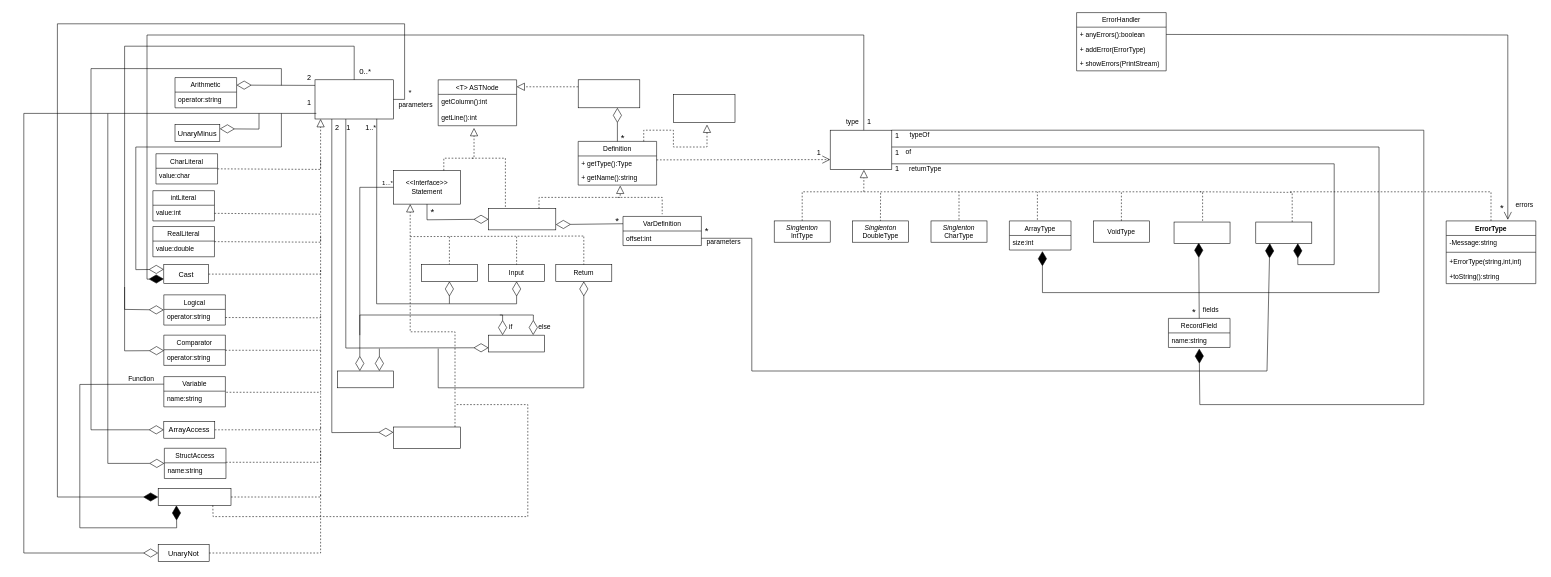
This 1551x577 diagram has some shape labels left out. The shapes that lost their labels are listed below. From the top down, each one's centre as x and y in pixels, then its label:
At point 353,99: "<<Interface>> Expression".
At point 609,93: "Program".
At point 704,108: "<<Interface>> Definition".
At point 861,149: "<Interface> Type".
At point 522,219: "FuncDefinition".
At point 1201,232: "RecordType".
At point 1283,232: "FunctionType".
At point 449,272: "Print".
At point 516,343: "Conditional".
At point 365,379: "While".
At point 427,437: "Assignment".
At point 194,496: "FunctionInvocation".
